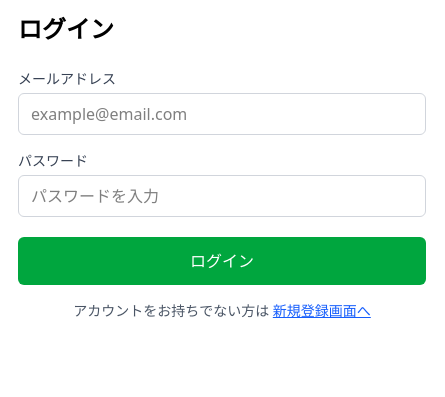
Test: LoginPage › 有効なデータでフォームが送信される
Note: 有効なデータを入力
In the field labelled "メールアドレス": x=222, y=114 [18, 93, 426, 135], type "test@example.com"
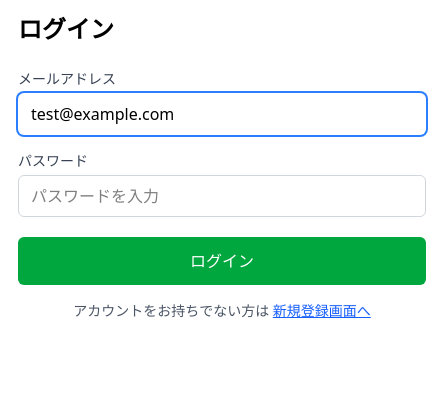
In the password field labelled "パスワード": x=222, y=196 [18, 175, 426, 217], type "password123"
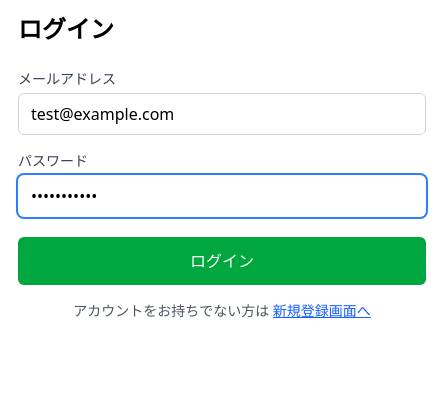
Note:  フォームを送信
Click the button "ログイン": x=222, y=261 [18, 237, 426, 285]
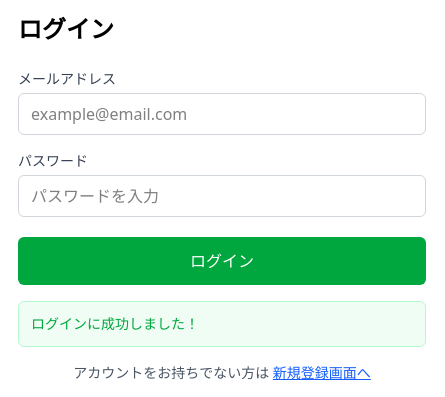
Expected: the text "ログインに成功しました！" is shown, [31, 314, 199, 333]
